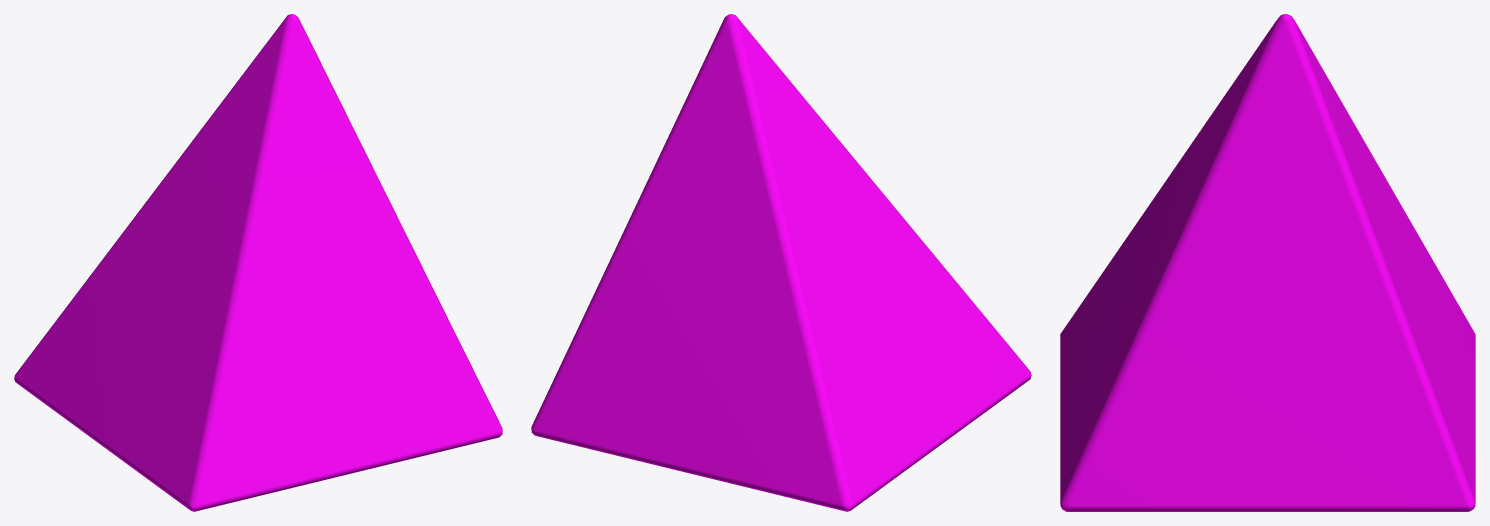
Rendered from crystalA.fbx.
The picture shows the model from 3 angles, left to right: view 1: azimuth 30°, elevation 25°; view 2: azimuth 150°, elevation 25°; view 3: azimuth 270°, elevation 25°; orthographic projection. The views are drawn at different scales.
Parts seen in each view (by area): view 1: crystalA_GEO; view 2: crystalA_GEO; view 3: crystalA_GEO.
Part boxes in pixels (left/top/right/bottom): crystalA_GEO: left=14, top=14, right=502, bottom=511; crystalA_GEO: left=531, top=14, right=1031, bottom=511; crystalA_GEO: left=1060, top=14, right=1475, bottom=511.
Bounding box in the file's own units: 11.03 × 12.76 × 11.03.
